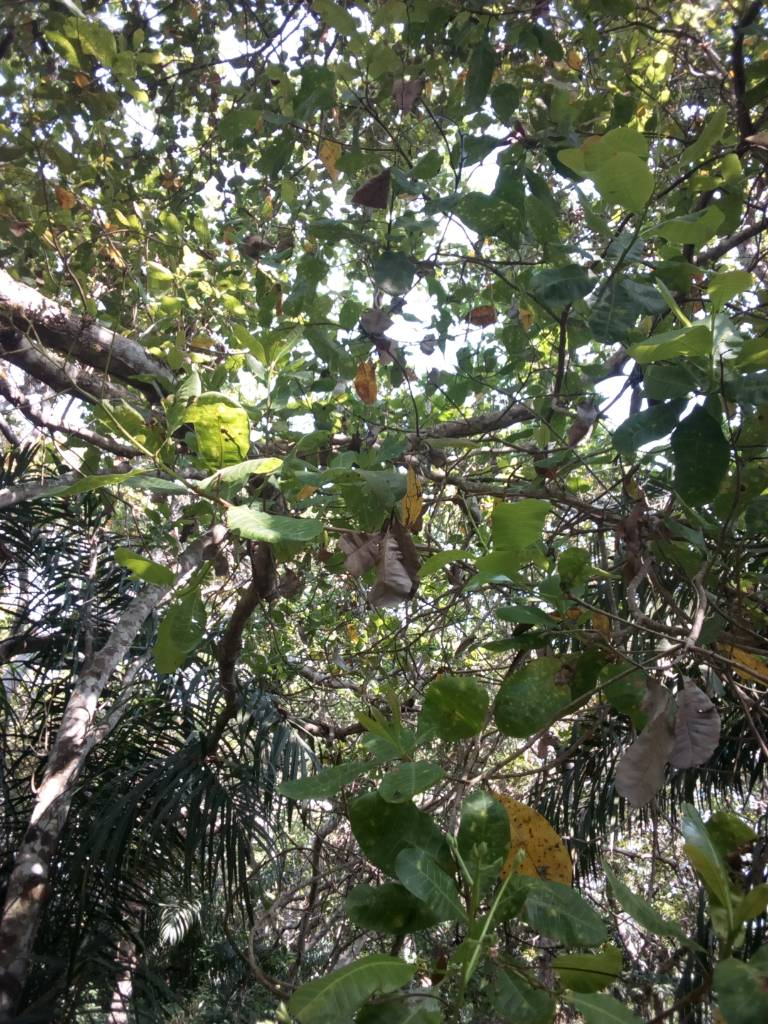Anthracnose: (499, 791, 572, 888)
